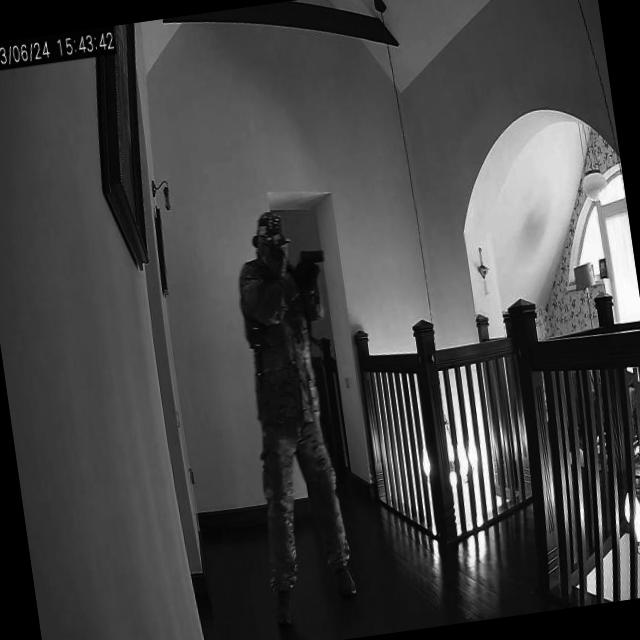gun: (299, 245, 328, 281)
person with a gun: (220, 202, 362, 628)
